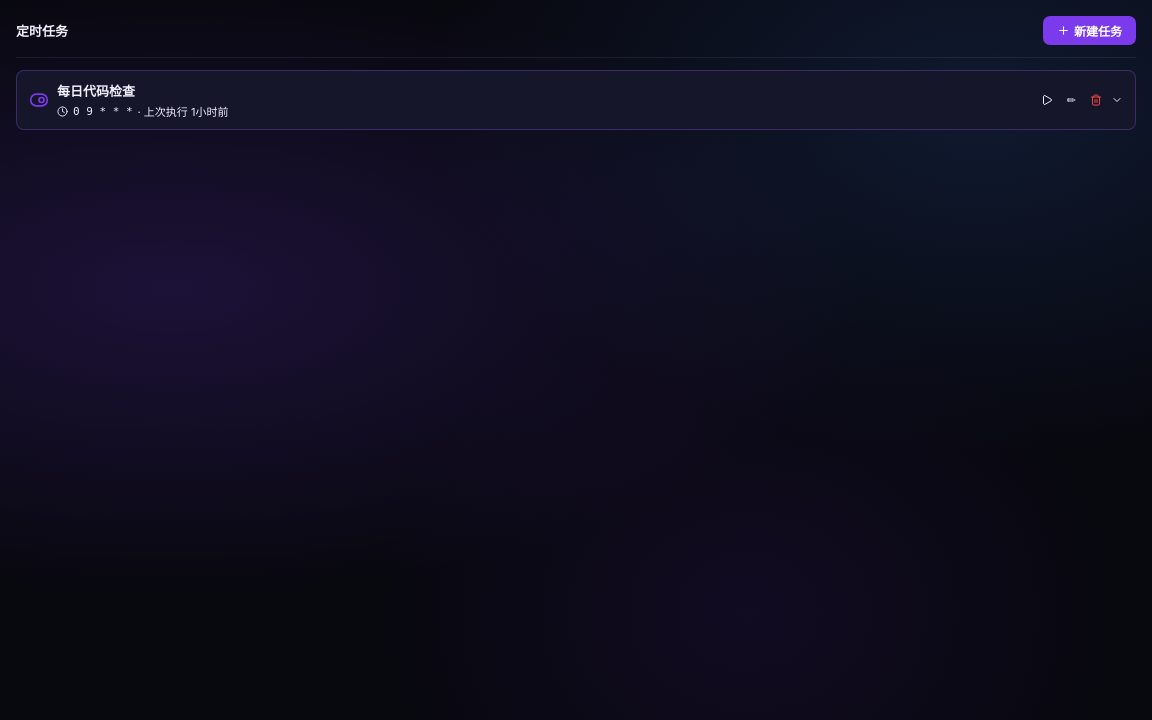
Test: RoutinesPanel - 交互 › 点击任务行应展开详情（显示提示词预览）
Note: 点击任务名称所在区域（routine-info 区域）
Click the text "每日代码检查": (96, 91) [57,83,135,99]
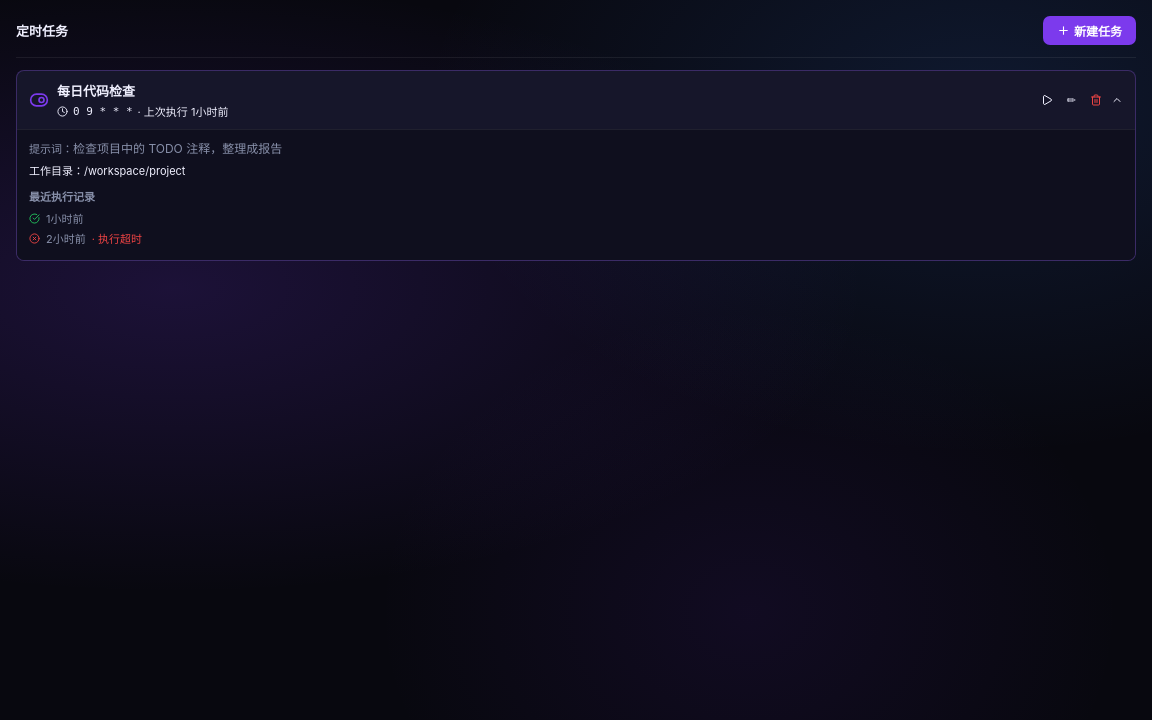
expect the text "提示词：" is shown: met, box [29,142,73,156]
